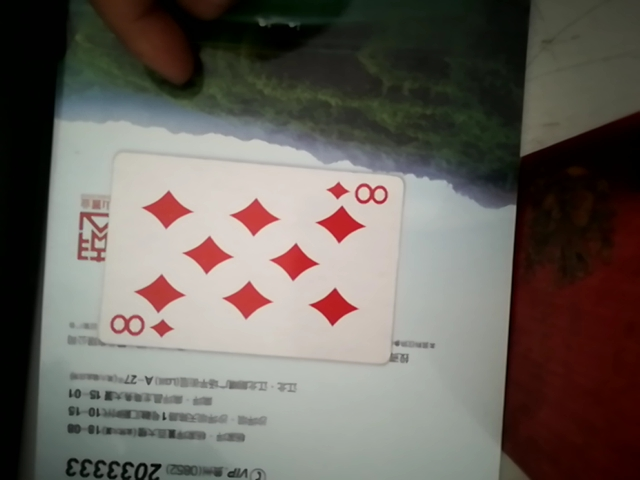fk 8: (83, 157, 406, 364)
